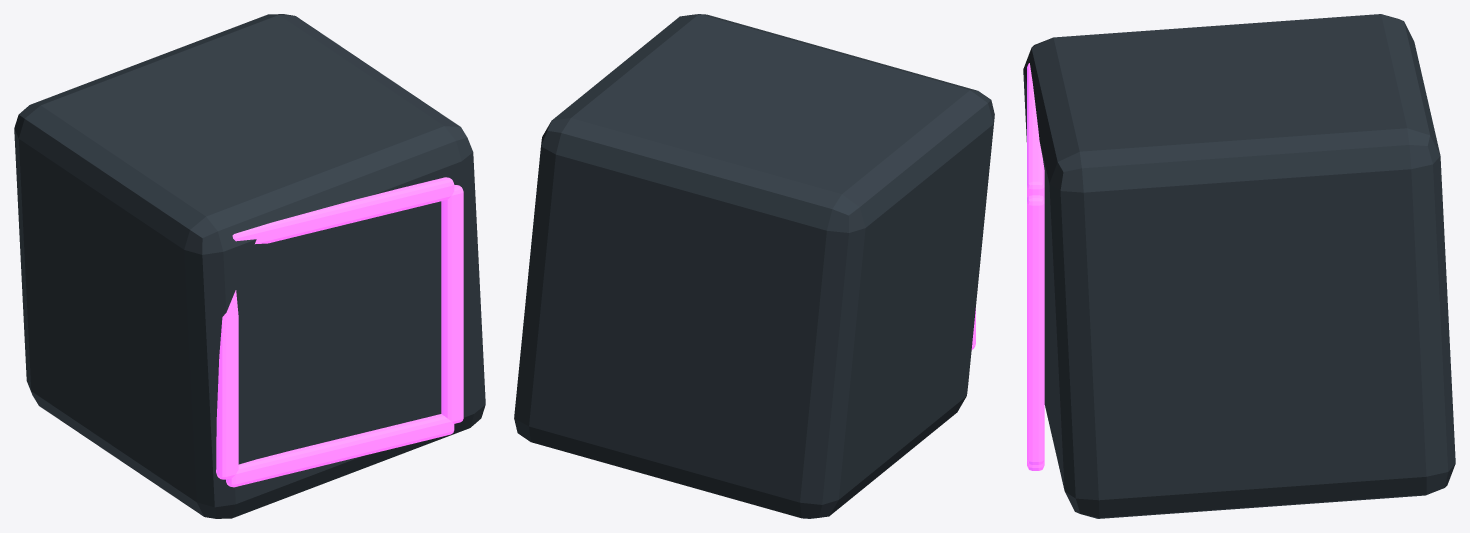
The model's file is Find_ImpossibleCube.glb.
The picture shows the model from 3 angles, left to right: view 1: azimuth 30°, elevation 25°; view 2: azimuth 150°, elevation 25°; view 3: azimuth 270°, elevation 25°; orthographic projection. The views are drawn at different scales.
Parts seen in each view (by area): view 1: Find_ImpossibleCube; view 2: Find_ImpossibleCube; view 3: Find_ImpossibleCube.
Part boxes in pixels (x1=…): Find_ImpossibleCube: x1=14, y1=14, x2=485, y2=518; Find_ImpossibleCube: x1=514, y1=14, x2=994, y2=518; Find_ImpossibleCube: x1=1023, y1=14, x2=1455, y2=518.
Size of the model in its own units: 0.9017 by 0.8771 by 0.881.
